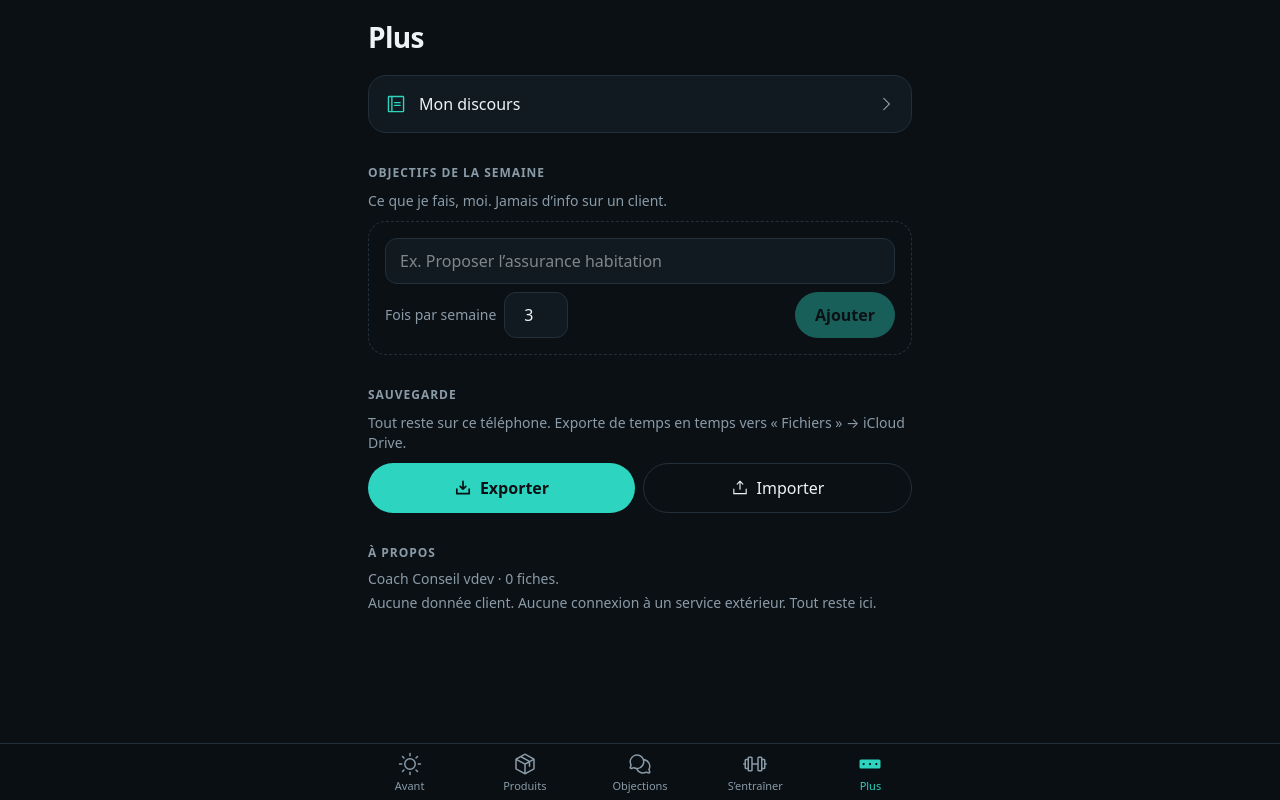
Test: Plus › rappelle d’exporter dès qu’il y a des données
Expected: the text "jamais exporté" is not shown
Type "X" into the field named "Nouvel objectif".
click(640, 261); type("X")  # box [385,238,895,284]
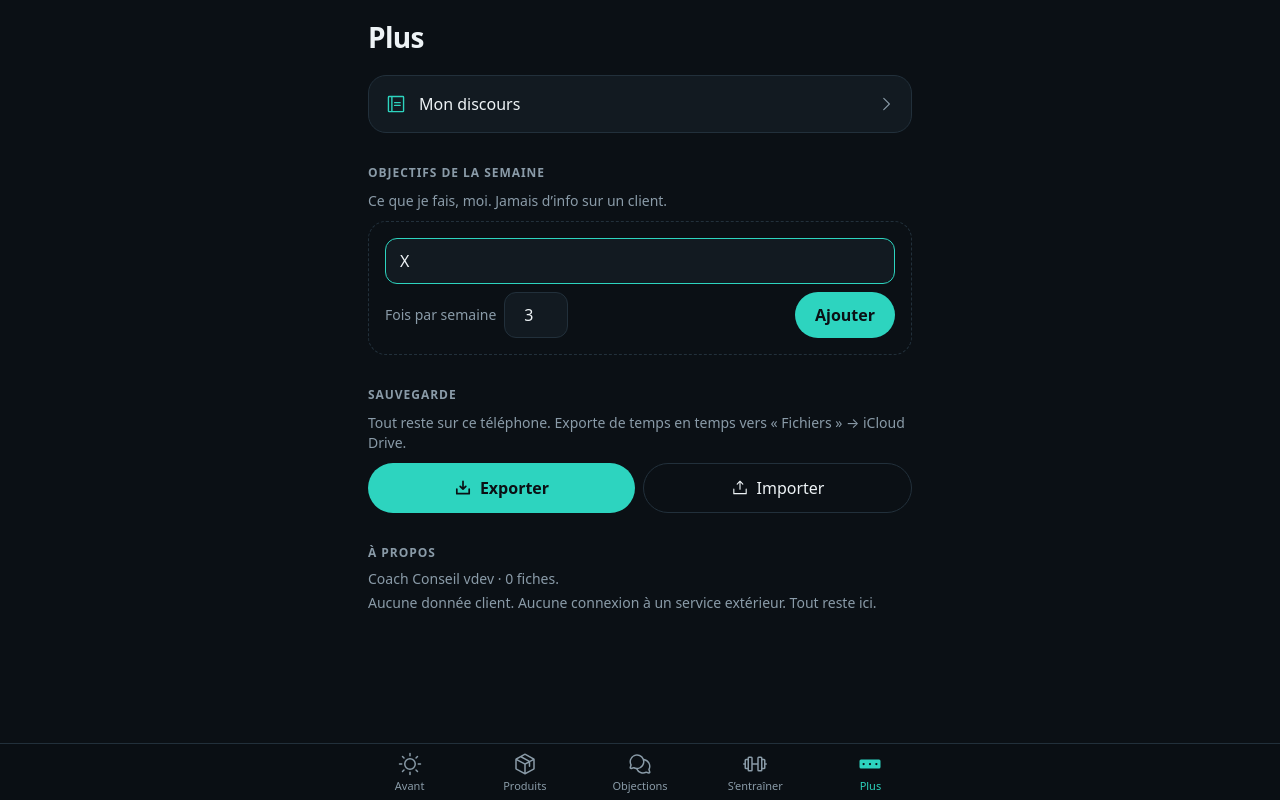
Click the button "Ajouter".
click(845, 315)  # box [795,292,895,338]
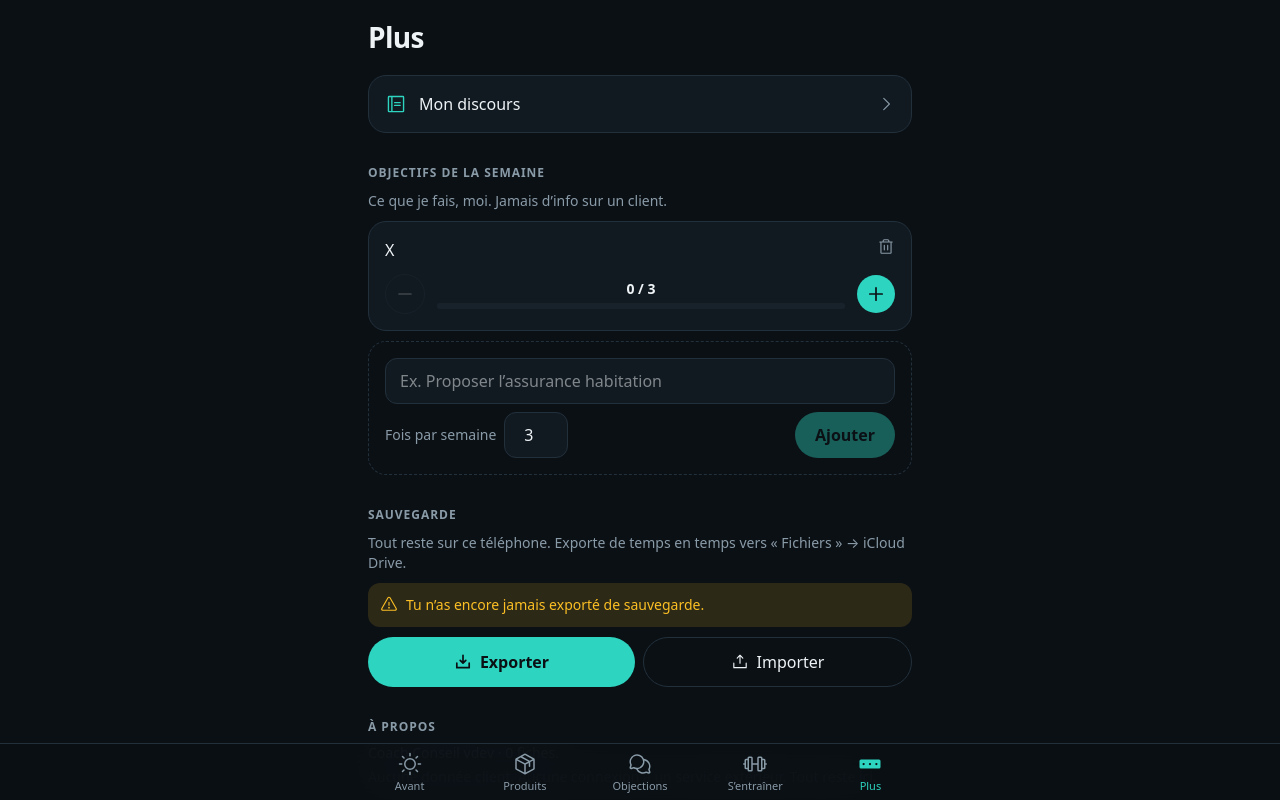
Expected: the text "Tu n’as encore jamais exporté de sauvegarde." is shown, [368,583,912,627]
